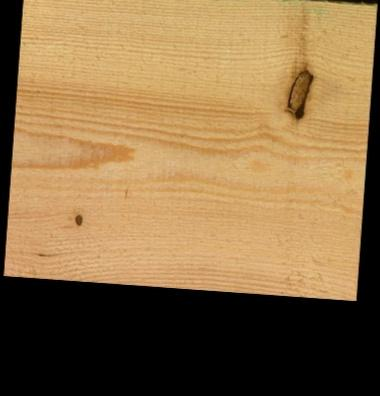dry_knot: (73, 211, 82, 225)
